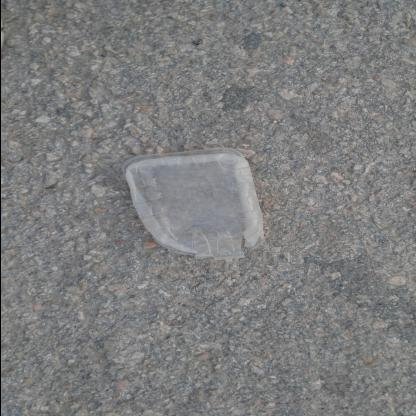plastik: (121, 148, 266, 260)
